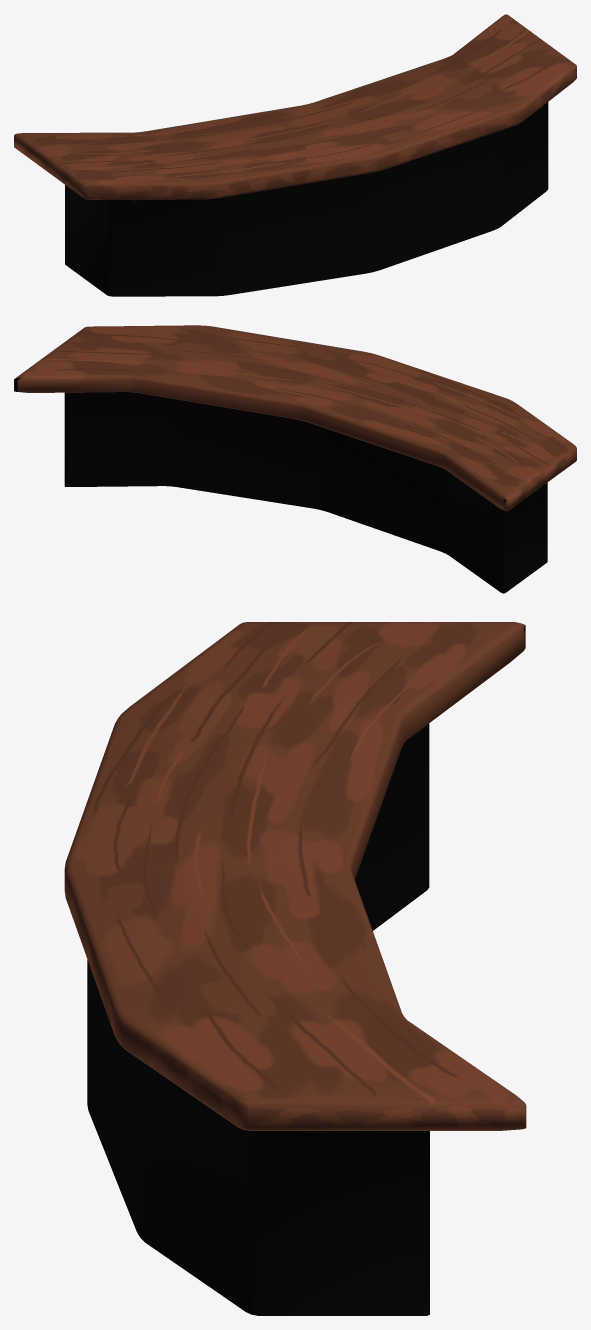
The model's file is Desk.fbx.
3 renders of one model, top to bottom at view 1: azimuth 30°, elevation 25°; view 2: azimuth 150°, elevation 25°; view 3: azimuth 270°, elevation 25°, orthographic. The views are drawn at different scales.
Parts seen in each view (by area): view 1: Cube.031; view 2: Cube.031; view 3: Cube.031.
Part boxes in pixels (box(x1,y1,x2,y2)): Cube.031: box(14, 14, 576, 296); Cube.031: box(14, 325, 576, 593); Cube.031: box(64, 622, 526, 1315).
Bounding box in the file's own units: 5839 × 1362 × 2361.
Materials: 1 (1 with a texture image).
